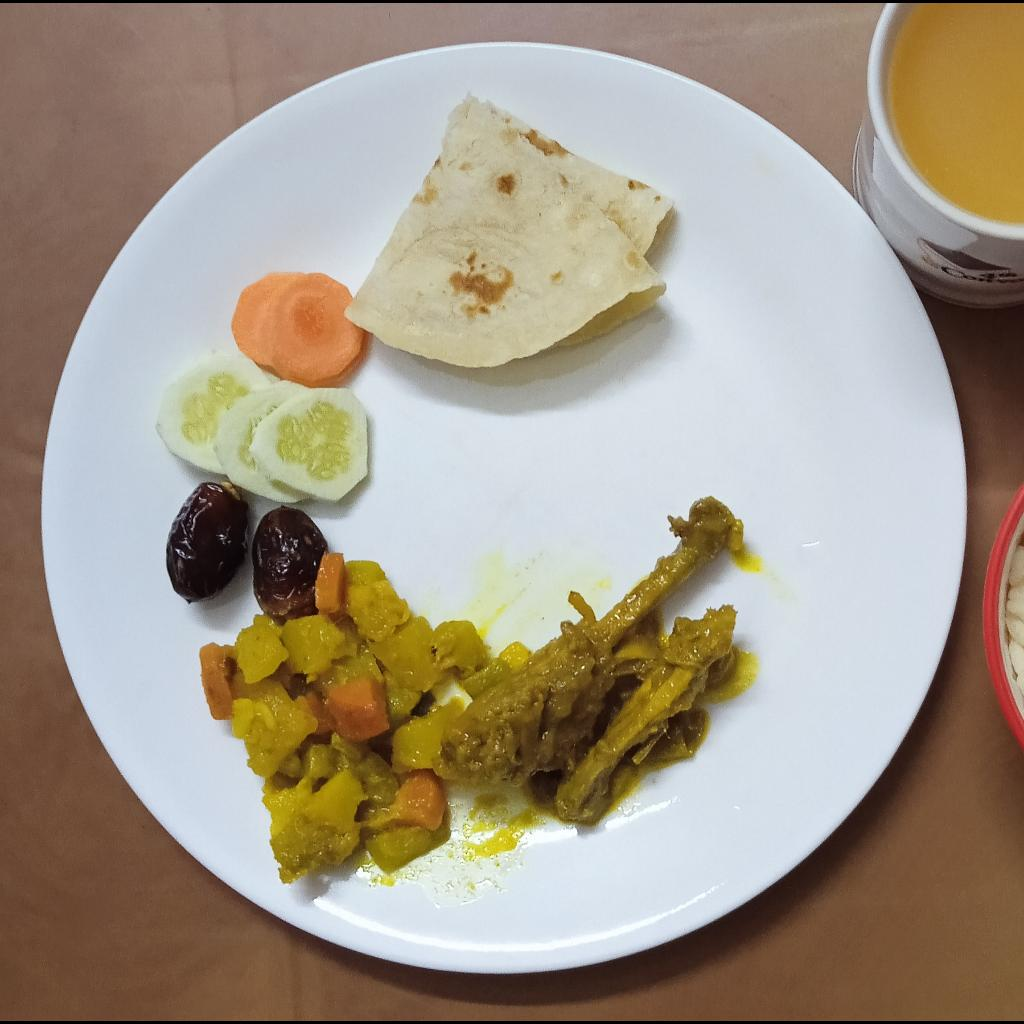carrot: (231, 270, 366, 390)
chicken: (434, 497, 744, 822)
cucumber: (157, 353, 368, 506)
dates: (164, 484, 252, 607), (252, 508, 330, 622)
ruti: (347, 95, 677, 367)
vegetable: (200, 555, 533, 885)
